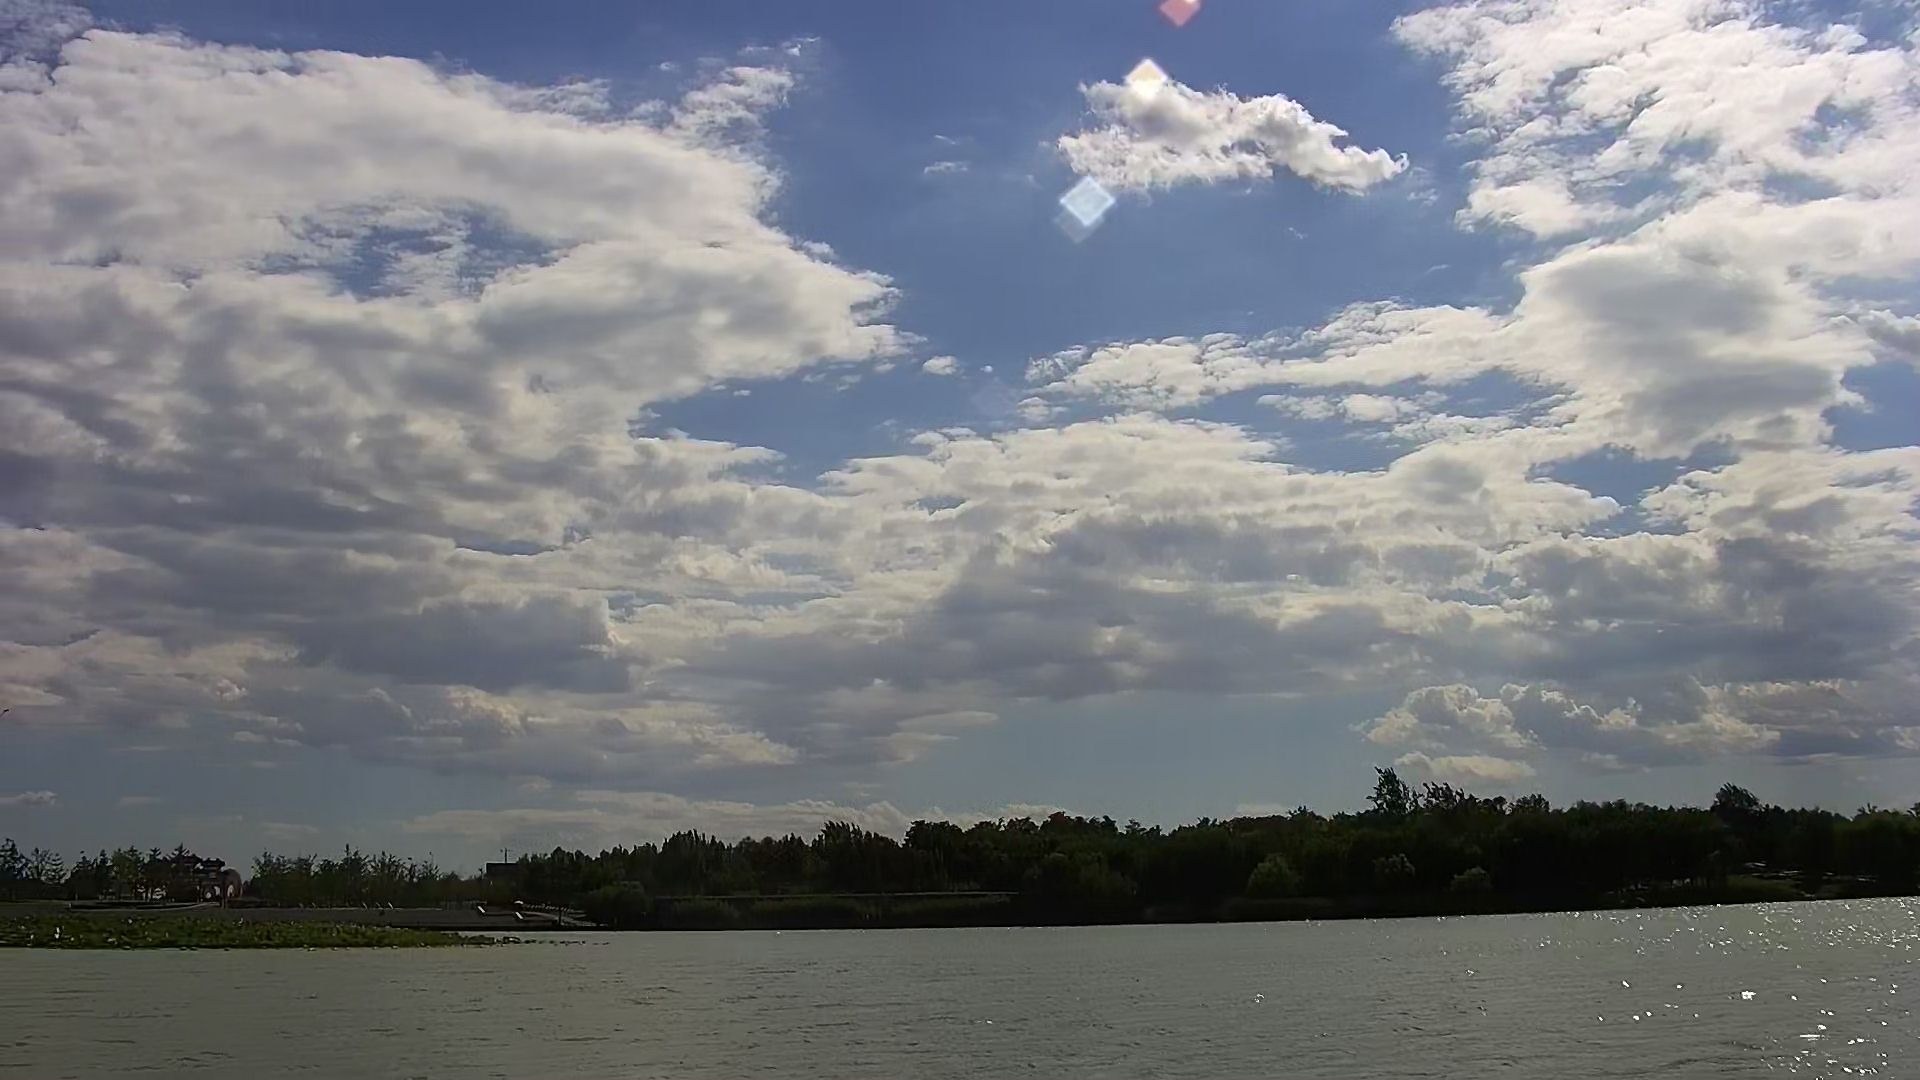grass: (1, 922, 575, 957)
